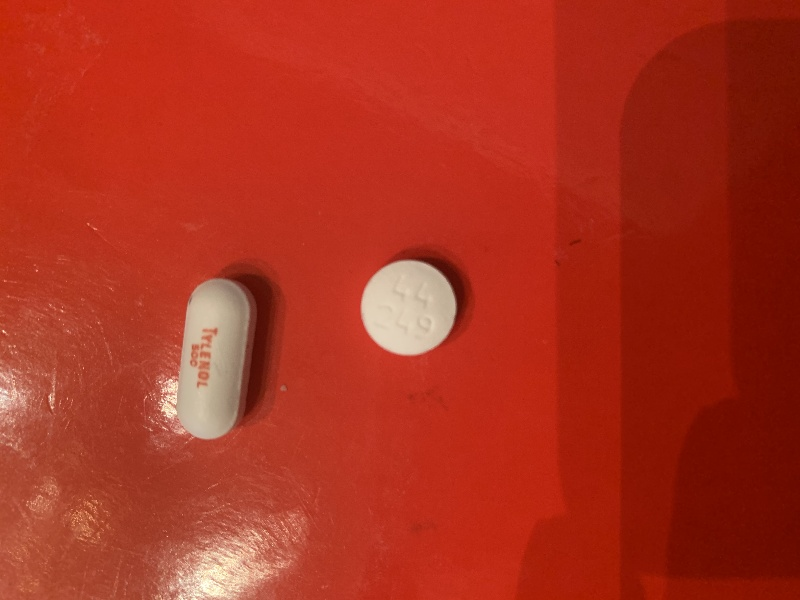Aspirin: (355, 255, 464, 364)
Tylenol: (173, 275, 261, 442)
